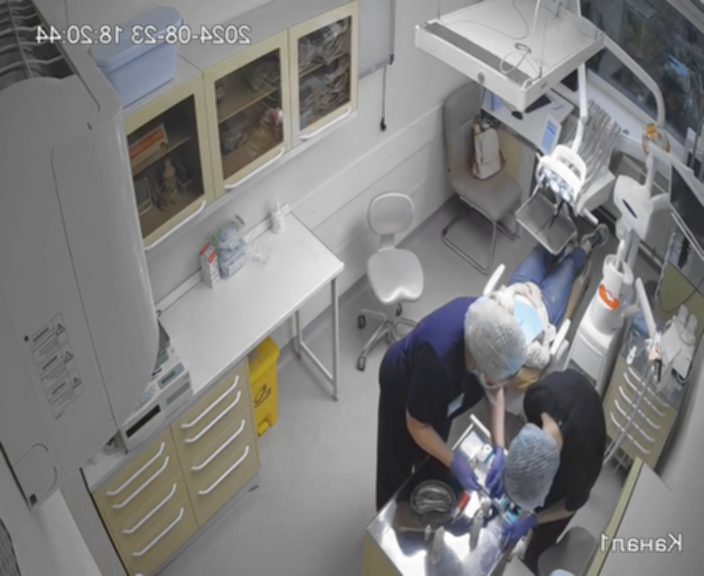Patient: (470, 235, 601, 380)
